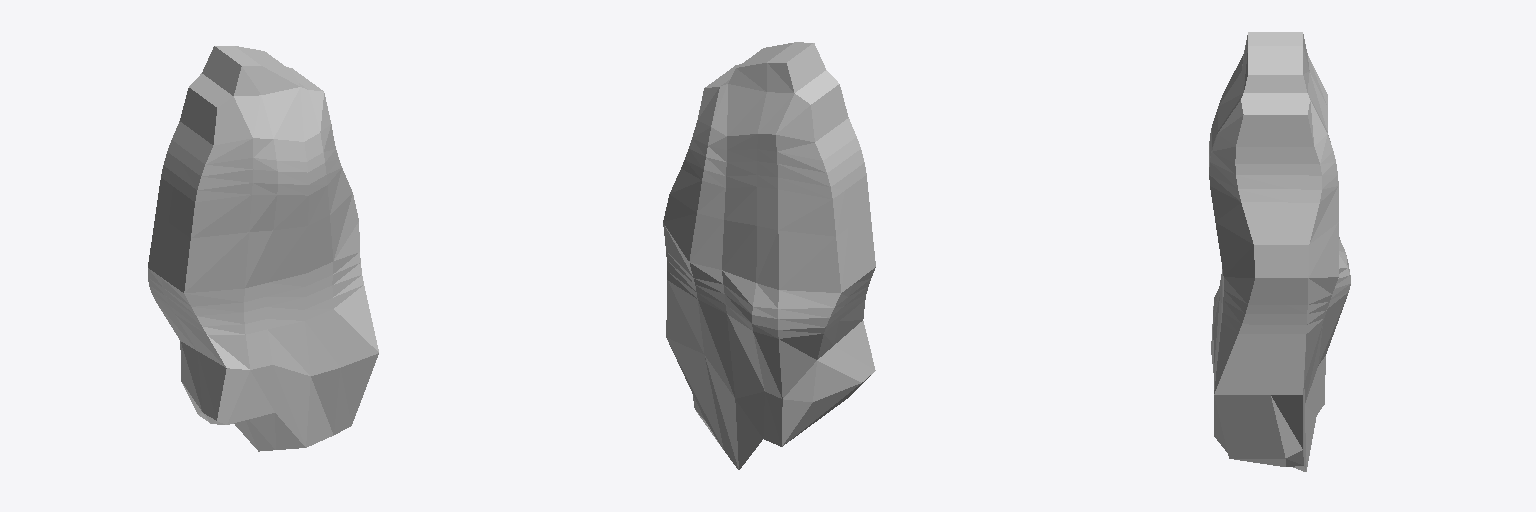
Rendered from monolith_01.obj.
3 views of the same model, side by side, from view 1: azimuth 30°, elevation 25°; view 2: azimuth 150°, elevation 25°; view 3: azimuth 270°, elevation 25° (orthographic).
Visible parts, largest first — view 1: Cube_Cube; view 2: Cube_Cube; view 3: Cube_Cube.
Part boxes in pixels (bbox=[...]): Cube_Cube: bbox=[148, 46, 378, 451]; Cube_Cube: bbox=[663, 42, 875, 469]; Cube_Cube: bbox=[1209, 32, 1350, 471].
Bounding box in the file's own units: 392 × 862 × 265.